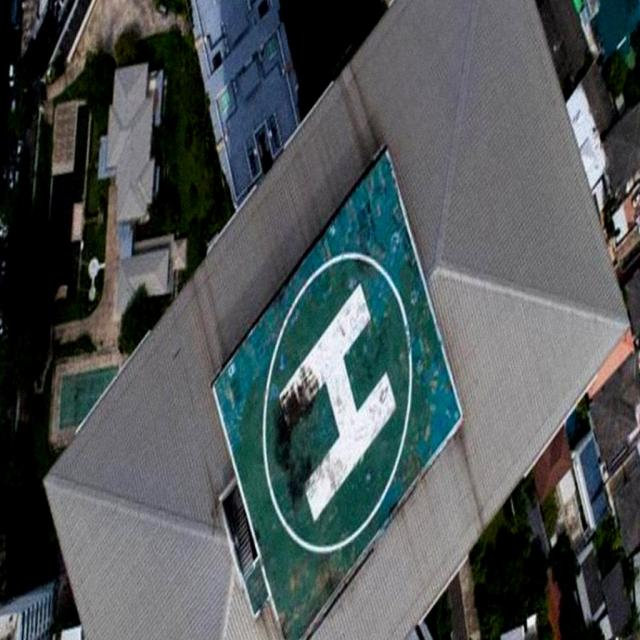helipad: (258, 248, 420, 558)
